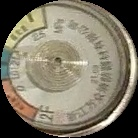green: (2, 48, 15, 80)
red: (2, 78, 42, 121)
yellow: (6, 6, 49, 48)
